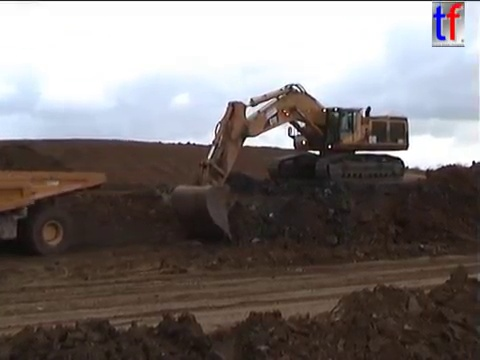excavator: (168, 81, 412, 241)
truck: (1, 159, 108, 257), (1, 176, 38, 215)
